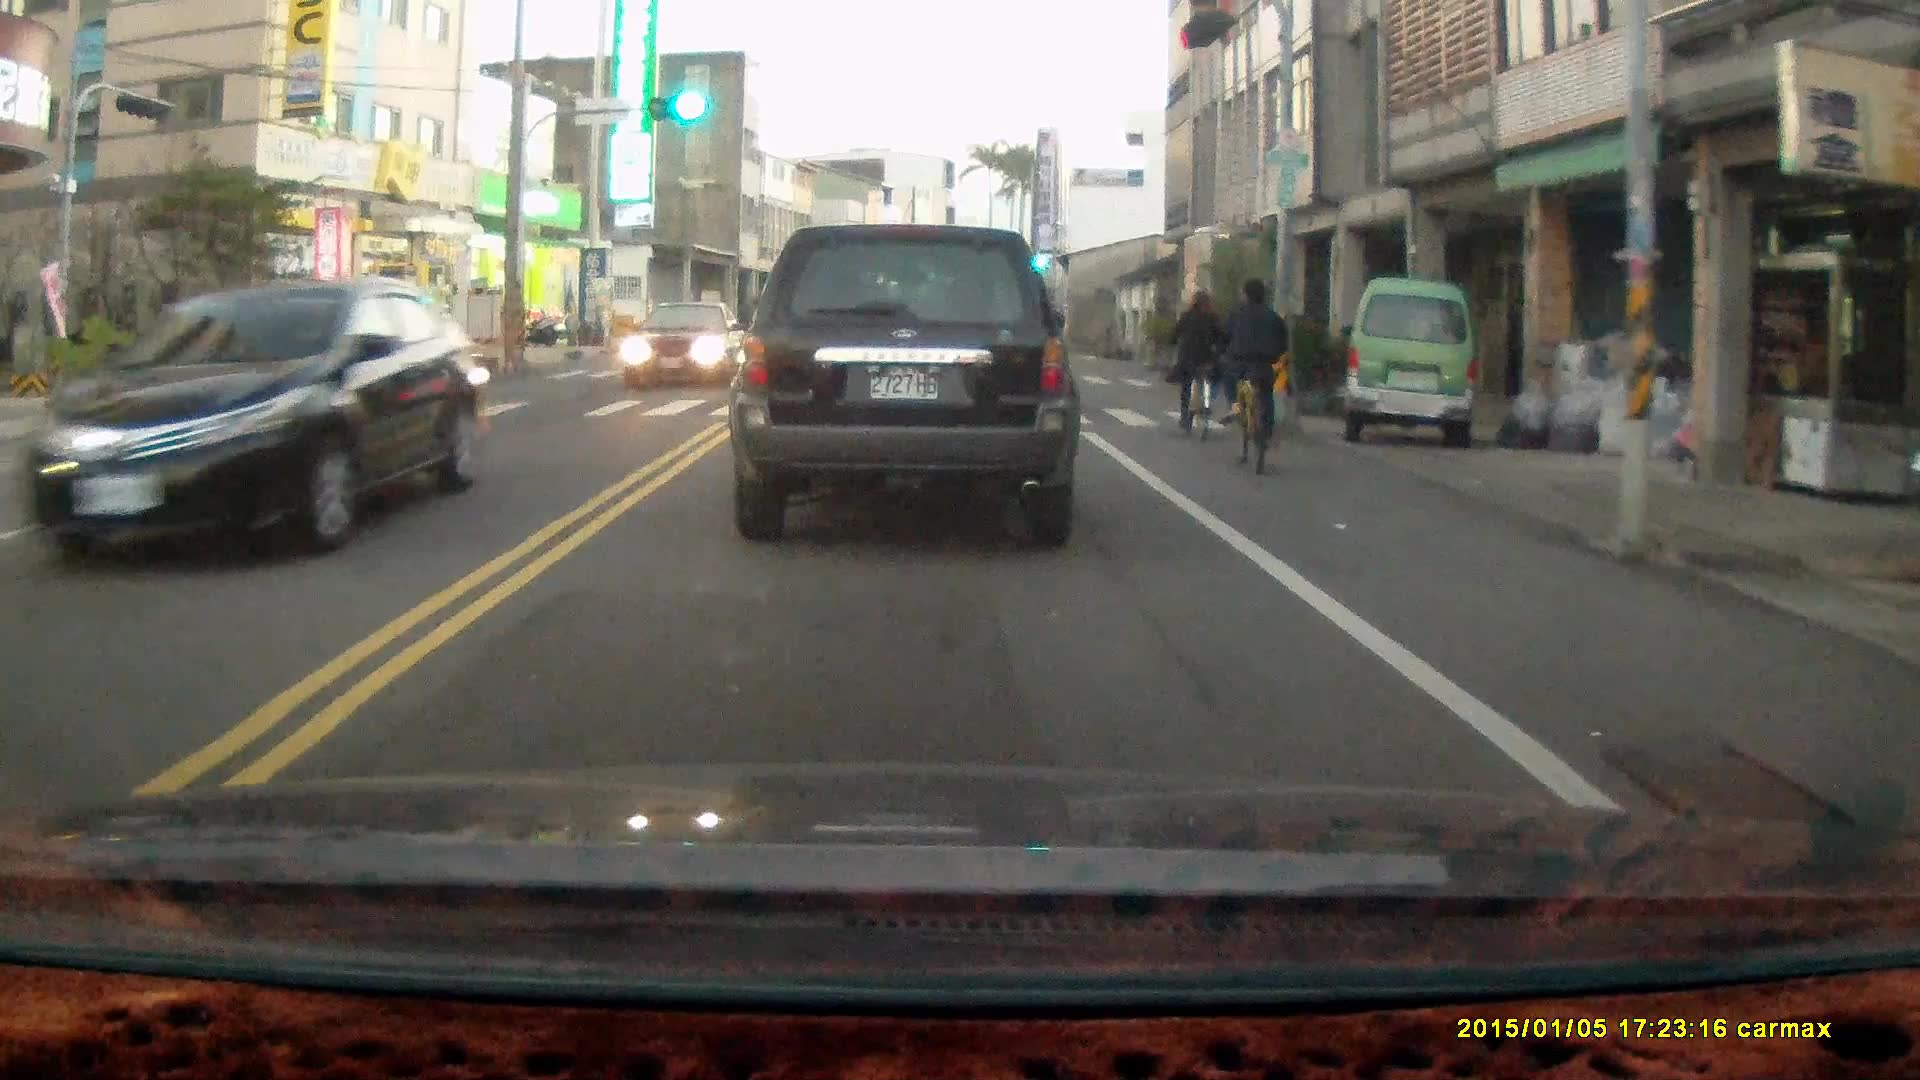rider: (1213, 274, 1290, 476), (1167, 287, 1226, 446)
vehicle: (16, 279, 482, 558), (739, 222, 1086, 542), (1338, 276, 1485, 453), (620, 303, 755, 396)
